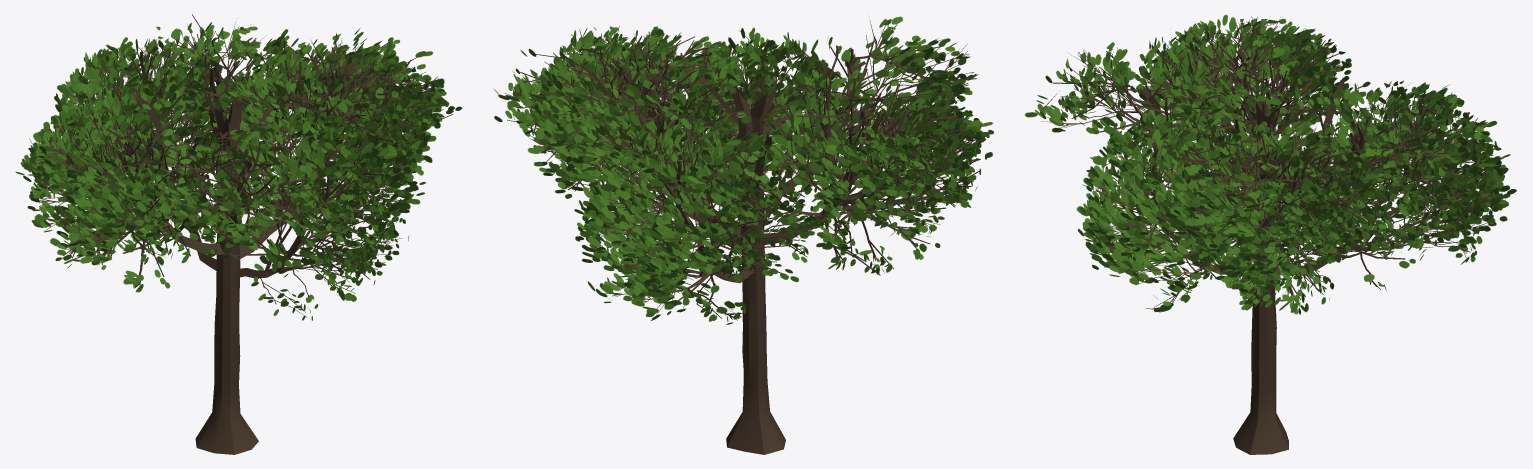
3 views of the same model, side by side, from view 1: azimuth 30°, elevation 25°; view 2: azimuth 150°, elevation 25°; view 3: azimuth 270°, elevation 25° (orthographic). The views are drawn at different scales.
Parts seen in each view (by area): view 1: oak 01.001_trunk_Mat.001_0.073; view 2: oak 01.001_trunk_Mat.001_0.073; view 3: oak 01.001_trunk_Mat.001_0.073.
Boxes of the visible parts, box(x1,y1,x2,y2) form: oak 01.001_trunk_Mat.001_0.073: box(15, 14, 462, 454); oak 01.001_trunk_Mat.001_0.073: box(494, 16, 994, 454); oak 01.001_trunk_Mat.001_0.073: box(1024, 14, 1516, 454).
Bounding box in the file's own units: 4.64 × 3.68 × 4.67.
2 materials, 1 textured.
